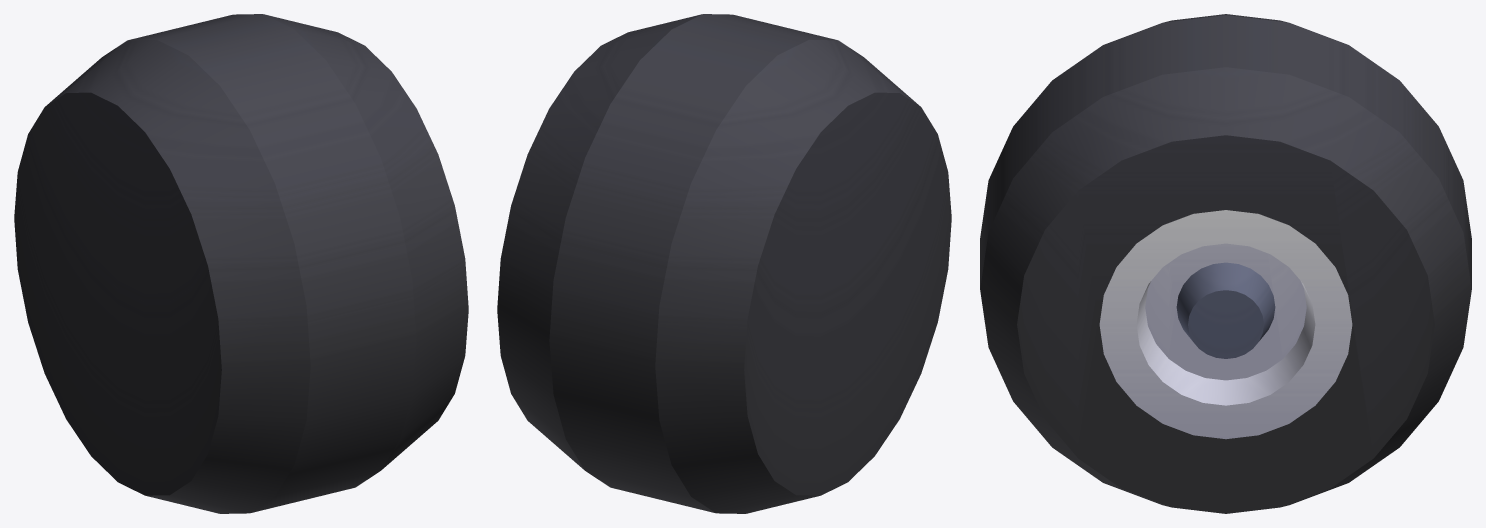
3 views of the same model, side by side, from view 1: azimuth 30°, elevation 25°; view 2: azimuth 150°, elevation 25°; view 3: azimuth 270°, elevation 25° (orthographic).
Parts seen in each view (by area): view 1: wheel-truck; view 2: wheel-truck; view 3: wheel-truck.
Boxes of the visible parts, box(x1,y1,x2,y2) form: wheel-truck: box(14, 14, 468, 513); wheel-truck: box(497, 14, 951, 513); wheel-truck: box(980, 14, 1471, 513).
Size of the model in its own units: 0.35 by 0.6 by 0.6.
Materials: 1 (1 with a texture image).
